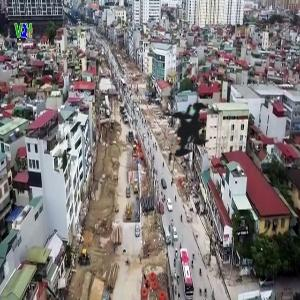drone: (93, 25, 289, 221)
